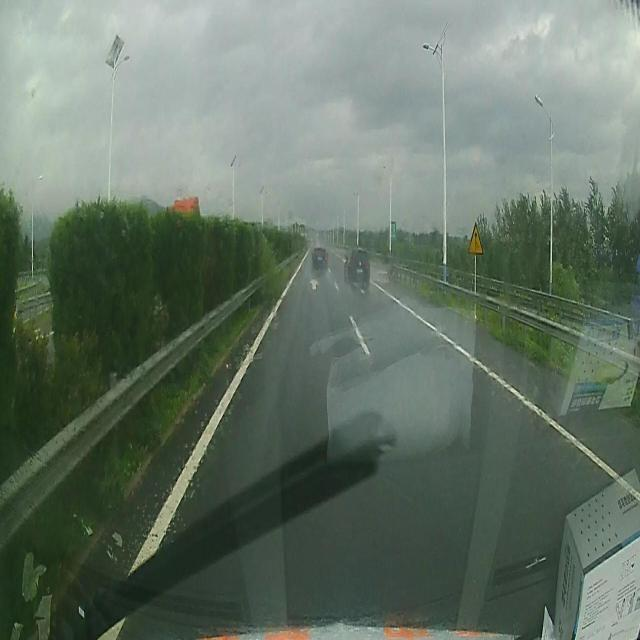car: (342, 242, 372, 288), (170, 194, 199, 217), (310, 244, 329, 271)
